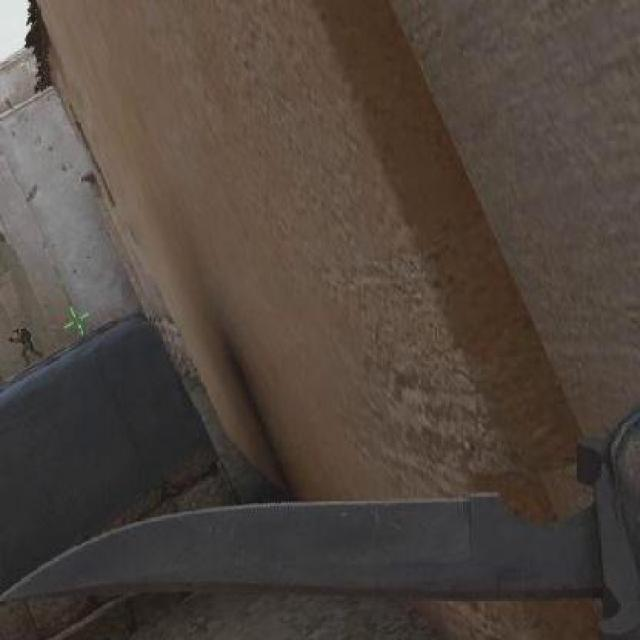CT-Body: (14, 326, 22, 334)
CT-Head: (4, 322, 46, 368)
